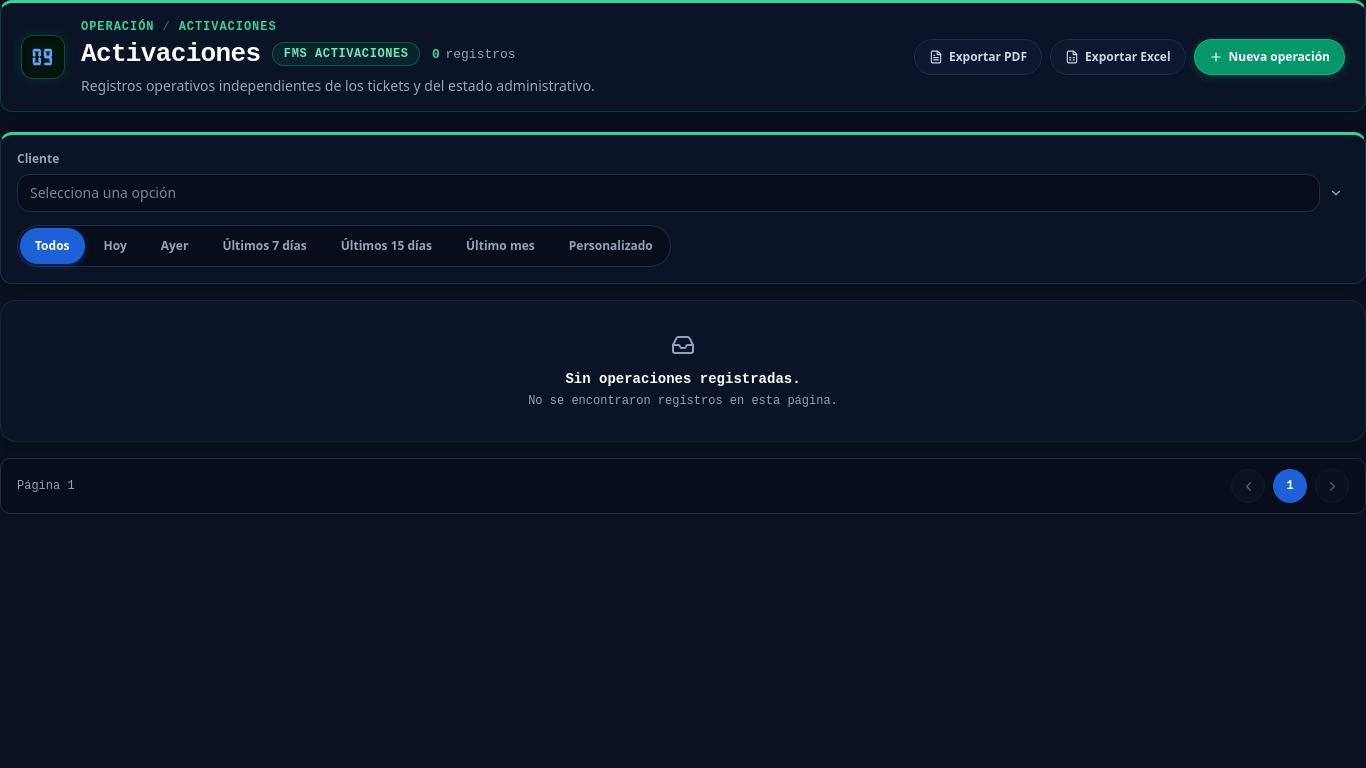
Exportaciones de los listados operativos FMS › activations informa errores sin abandonar el listado
Expected: the heading "Sin operaciones registradas." is shown, [565,371,801,387]
Click the button "Exportar PDF".
click(978, 57)  # box [914,39,1042,75]
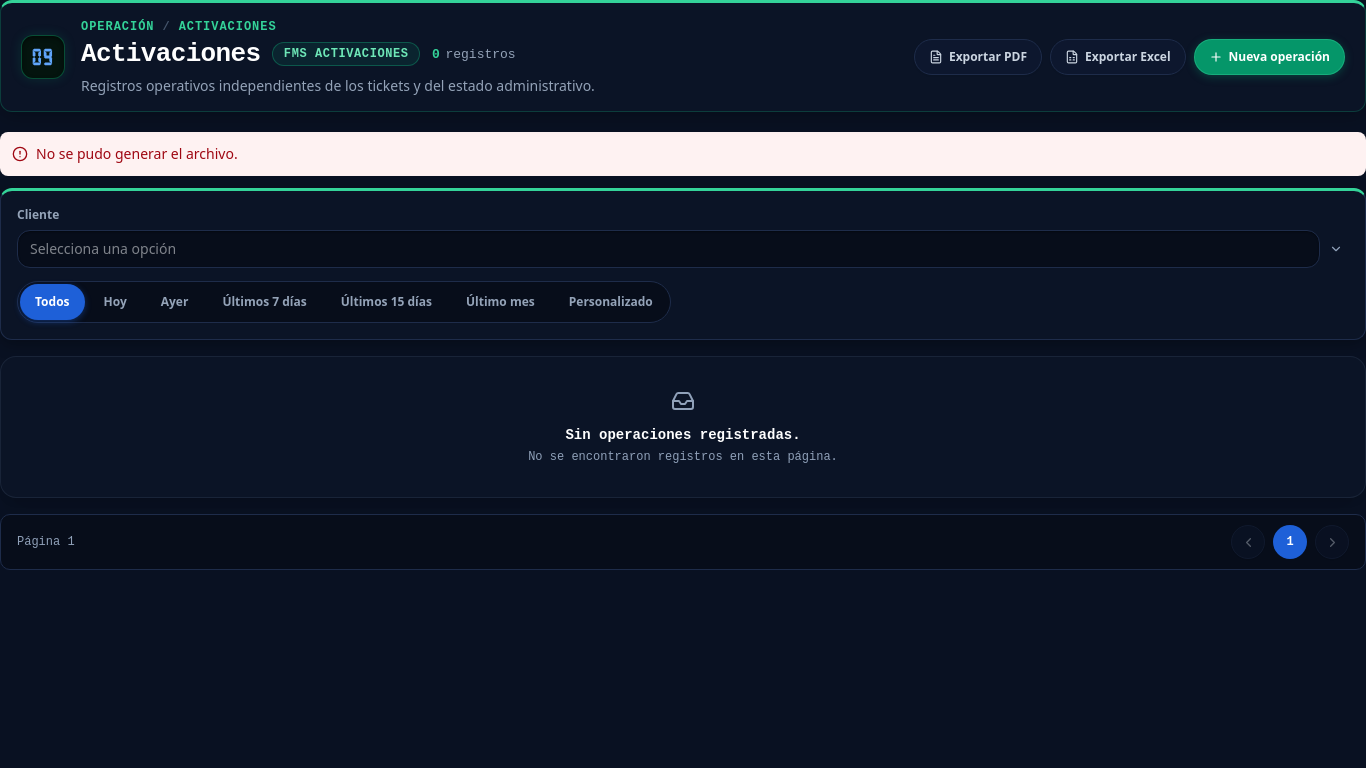
Expected: the heading "Sin operaciones registradas." is shown, [565,427,801,443]
Result: the message "No se pudo generar el archivo." is shown at [0,132,1365,176]
